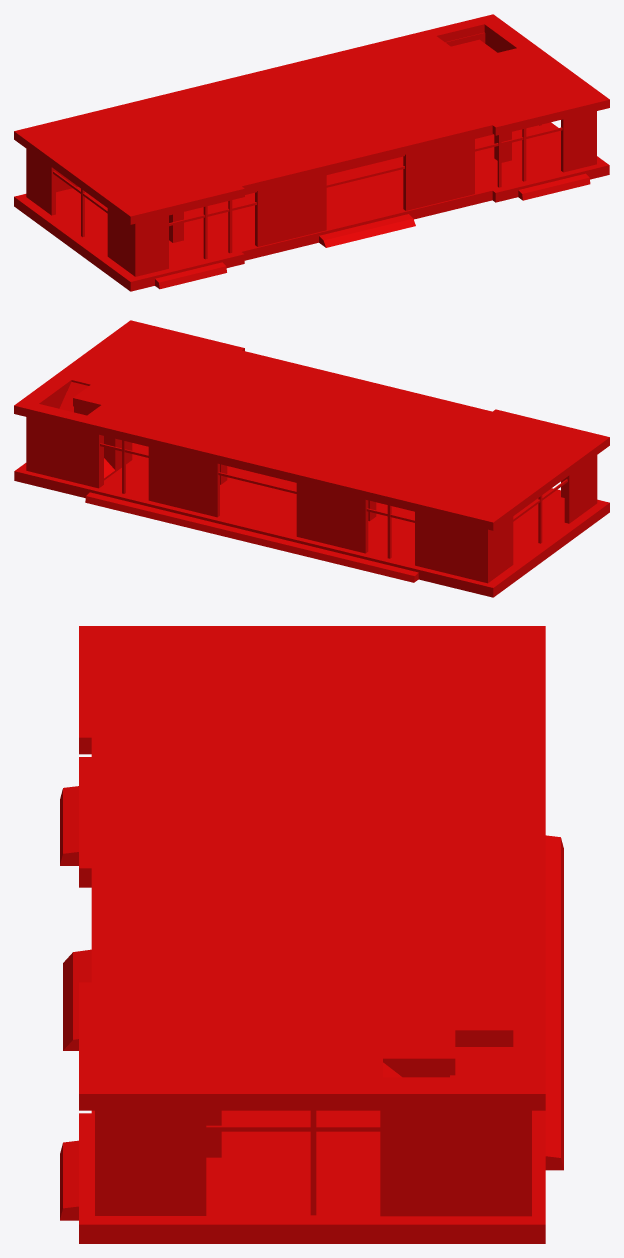
File: SM_Bld_HighRise_Large_01_Base_01_Collision.fbx
3 views of the same model, one above another, from view 1: azimuth 30°, elevation 25°; view 2: azimuth 150°, elevation 25°; view 3: azimuth 270°, elevation 25° (orthographic). The views are drawn at different scales.
Parts seen in each view (by area): view 1: SM_Bld_HighRise_Large_01_Base_01_Collision; view 2: SM_Bld_HighRise_Large_01_Base_01_Collision; view 3: SM_Bld_HighRise_Large_01_Base_01_Collision.
Part boxes in pixels (x1,y1,x2,y2): SM_Bld_HighRise_Large_01_Base_01_Collision: [14, 14, 609, 291]; SM_Bld_HighRise_Large_01_Base_01_Collision: [14, 320, 609, 597]; SM_Bld_HighRise_Large_01_Base_01_Collision: [60, 626, 563, 1243].
Bounding box in the file's own units: 2680 × 402 × 1221.
